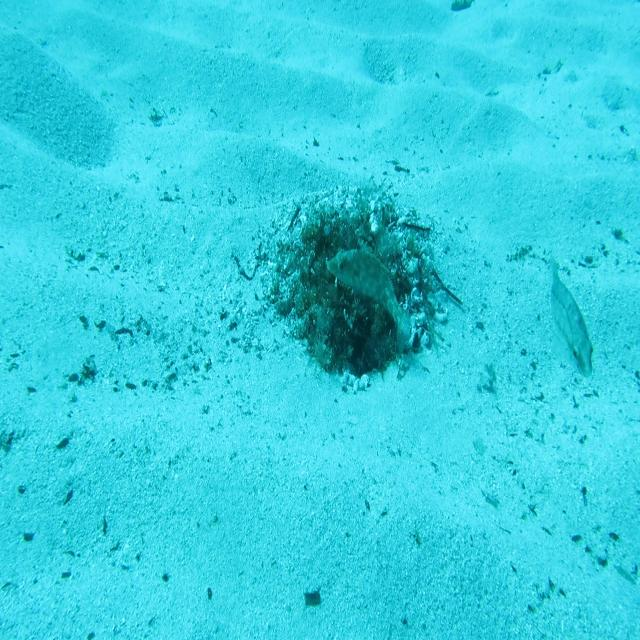LF: (323, 233, 414, 362)
core_nest: (324, 228, 366, 263)
female: (547, 248, 596, 384)
nest: (254, 170, 451, 408)
vegetation: (304, 585, 322, 609), (448, 0, 476, 12)
